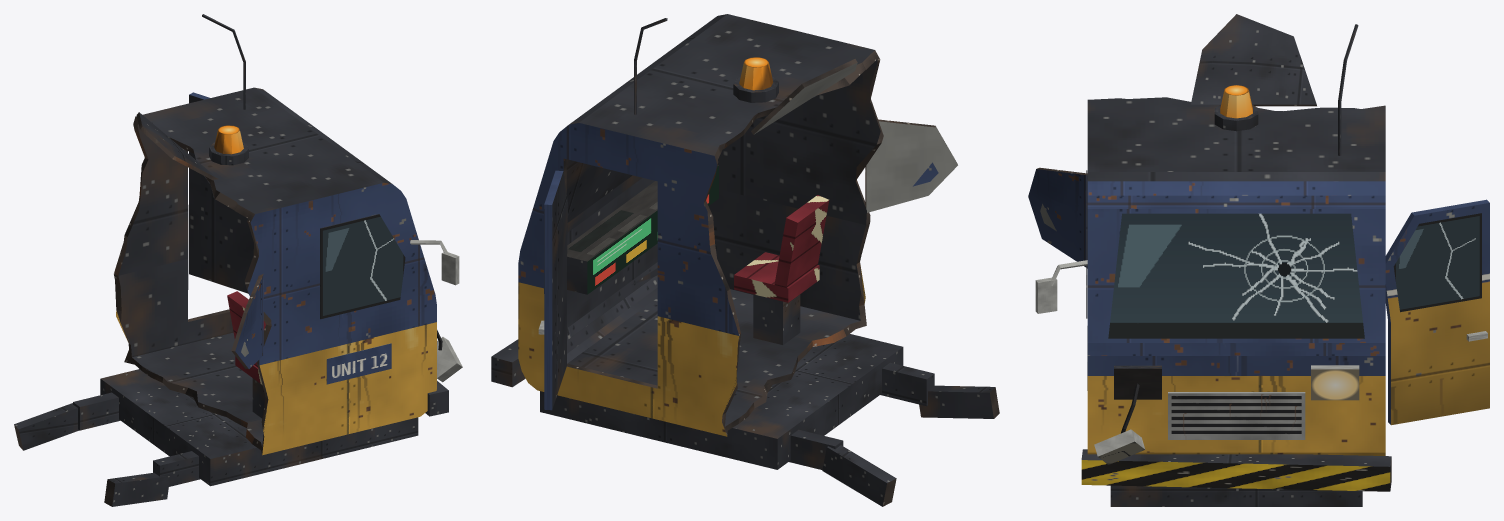
File: Cab.fbx
3 renders of one model, left to right at view 1: azimuth 30°, elevation 25°; view 2: azimuth 150°, elevation 25°; view 3: azimuth 270°, elevation 25°, orthographic. The views are drawn at different scales.
Parts seen in each view (by area): view 1: Cab; view 2: Cab; view 3: Cab.
Part boxes in pixels (<box>): Cab: <box>14,14,462,506</box>; Cab: <box>491,14,999,506</box>; Cab: <box>1028,14,1489,506</box>.
Size of the model in its own units: 3.95 by 4.24 by 4.03.
